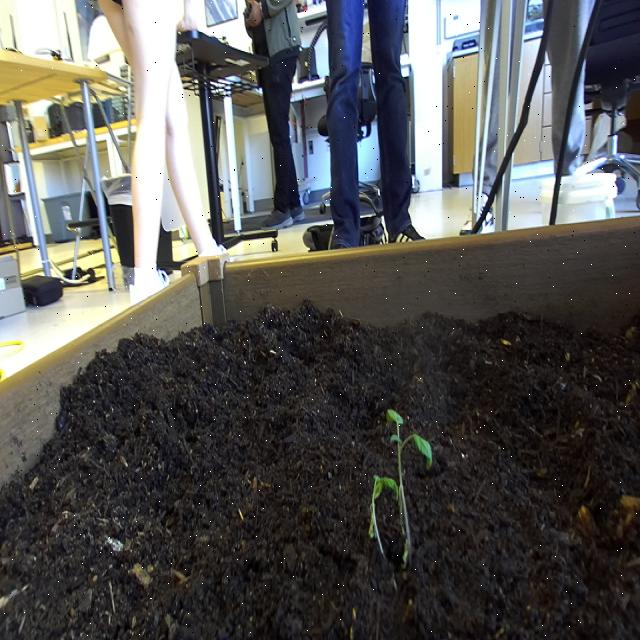Healthy: (384, 399, 434, 569), (362, 465, 400, 568)
